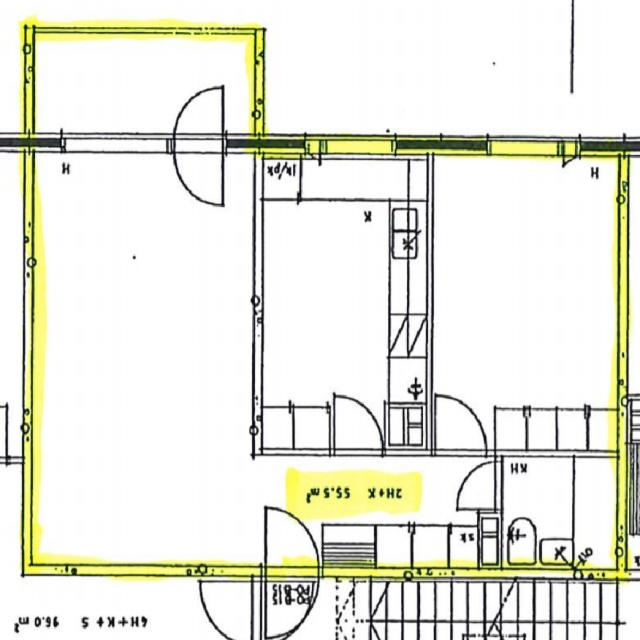door: (174, 77, 223, 153), (174, 135, 223, 211), (265, 566, 317, 637), (265, 506, 317, 576), (435, 388, 487, 454), (334, 394, 382, 454), (454, 461, 502, 508)
